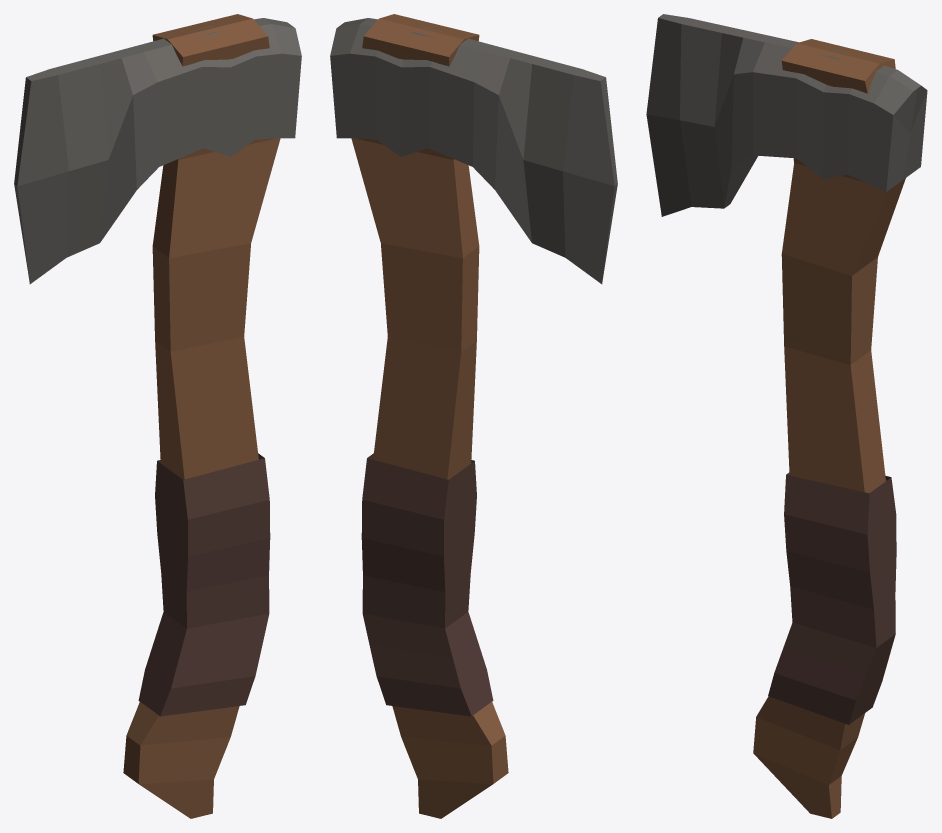
The model's file is GoodAxe.fbx.
3 renders of one model, left to right at view 1: azimuth 30°, elevation 25°; view 2: azimuth 150°, elevation 25°; view 3: azimuth 330°, elevation 25°, orthographic. The views are drawn at different scales.
Visible parts, largest first — view 1: Guard; view 2: Guard; view 3: Guard.
Boxes of the visible parts, left/top/right/bottom form: Guard: left=14, top=14, right=301, bottom=818; Guard: left=330, top=14, right=617, bottom=818; Guard: left=646, top=14, right=927, bottom=818.
Bounding box in the file's own units: 193 × 522 × 43.16.
